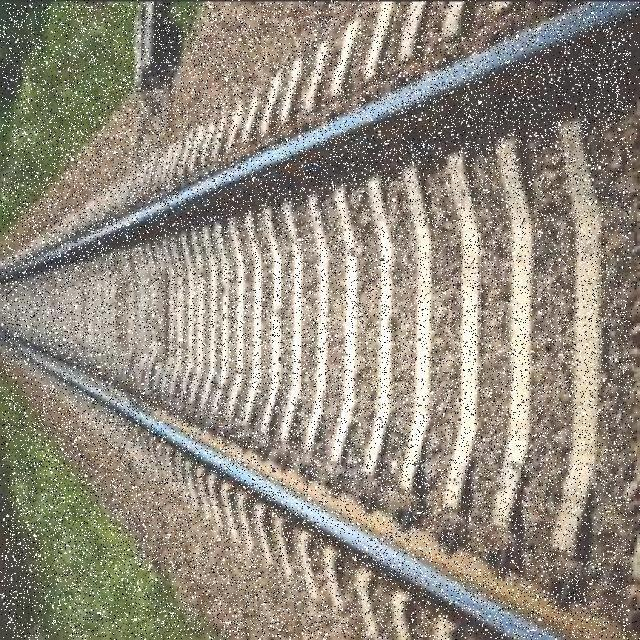rail: (3, 4, 632, 639)
